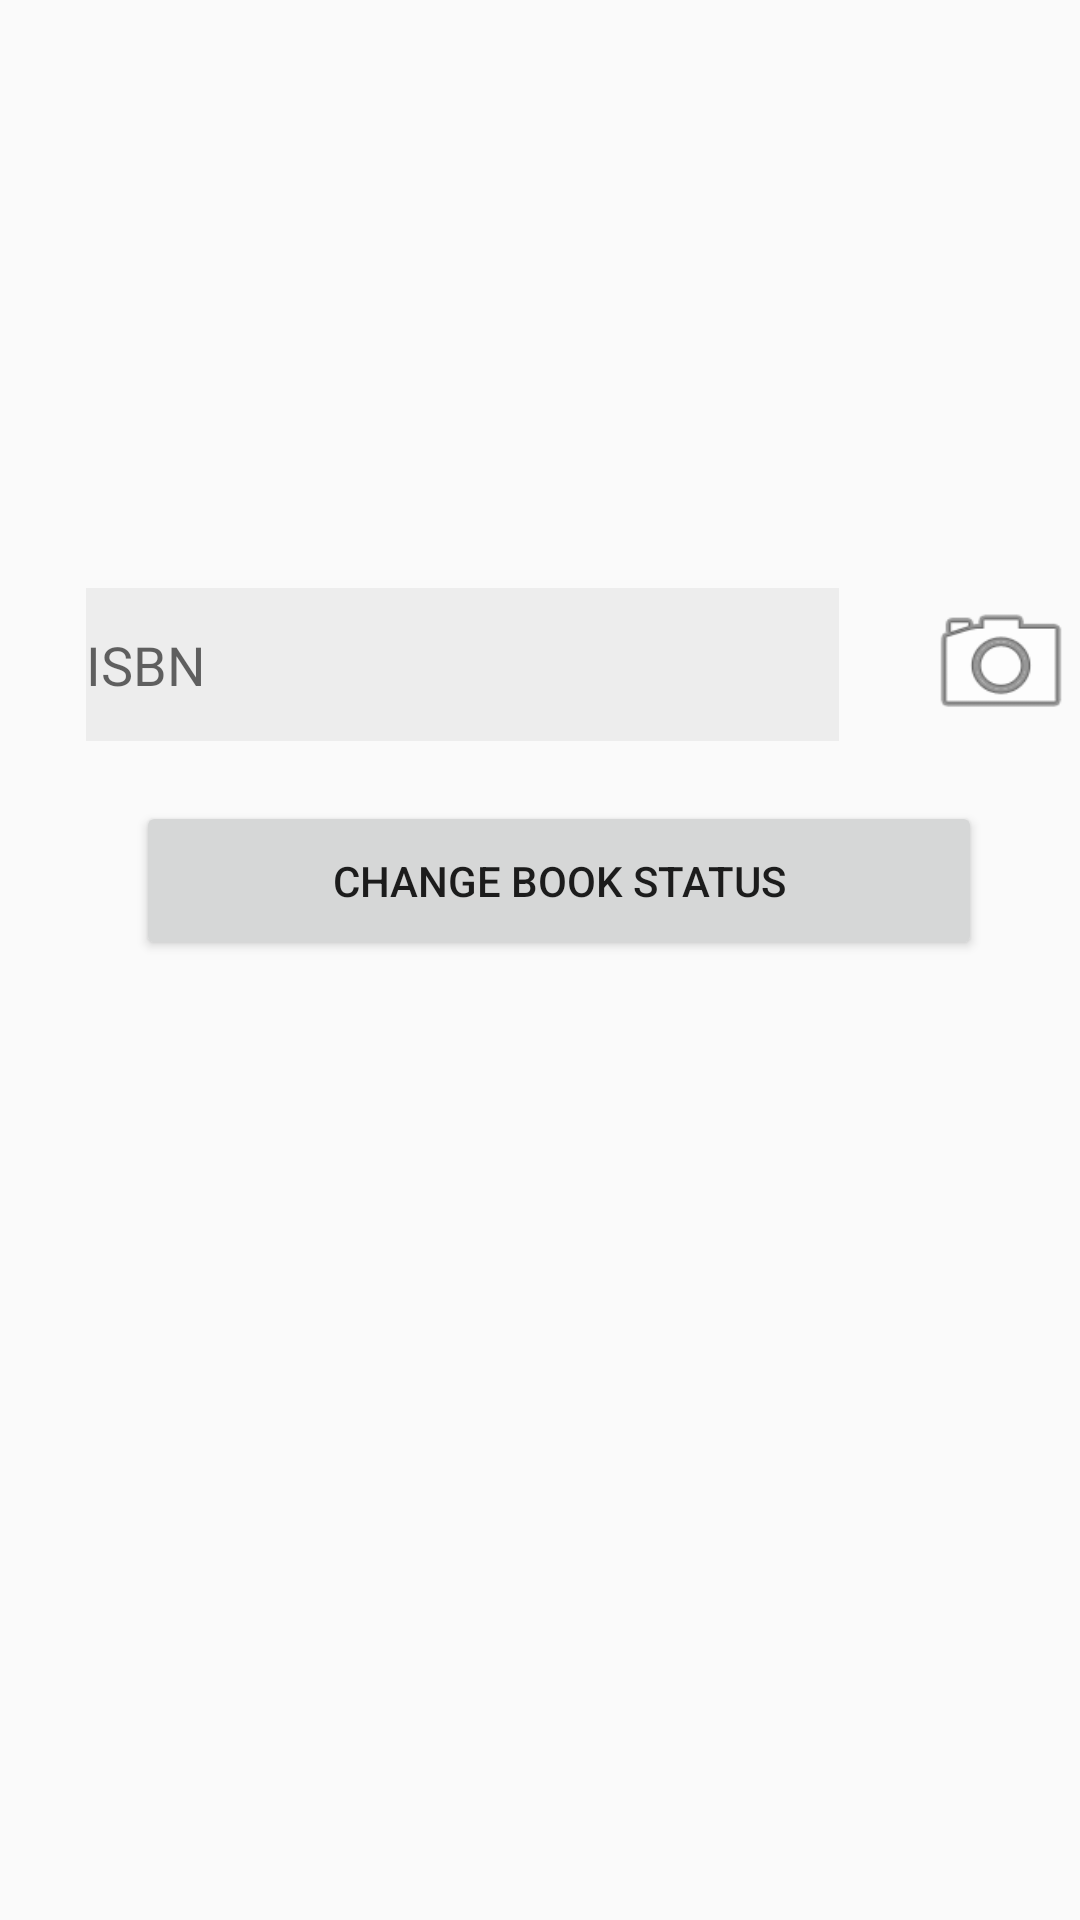

Where to tap for icons on this 1080×1920 app screen, as [x,y]:
camera: [1001,660]
